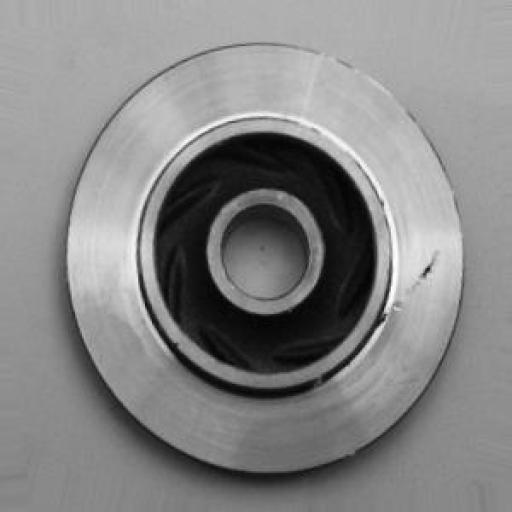defect: (358, 234, 461, 342)
